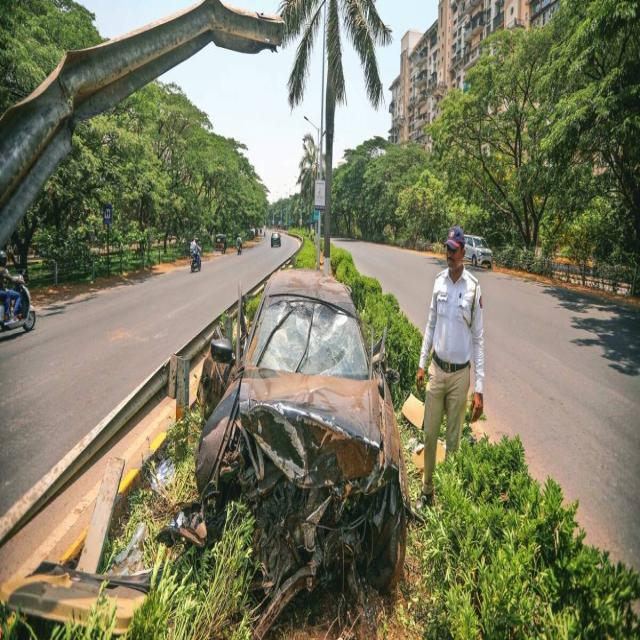accident: (195, 272, 410, 636)
